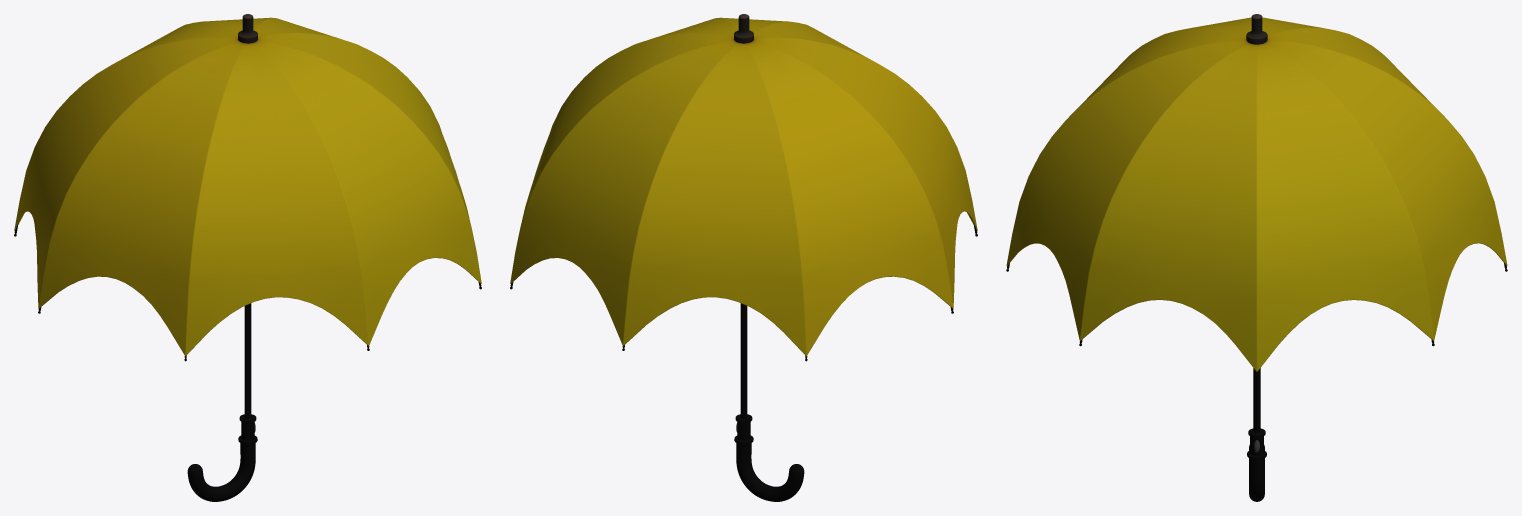
Rendered from Umbrella.glb.
3 renders of one model, left to right at view 1: azimuth 30°, elevation 25°; view 2: azimuth 150°, elevation 25°; view 3: azimuth 270°, elevation 25°, orthographic. The views are drawn at different scales.
Visible parts, largest first — view 1: node_id30; view 2: node_id30; view 3: node_id30.
Part boxes in pixels (x1,y1,x2,y2): node_id30: (14, 14, 481, 501); node_id30: (510, 14, 977, 501); node_id30: (1006, 14, 1507, 501).
Size of the model in its own units: 0.469 by 0.512 by 0.469.
1 material, 1 textured.
